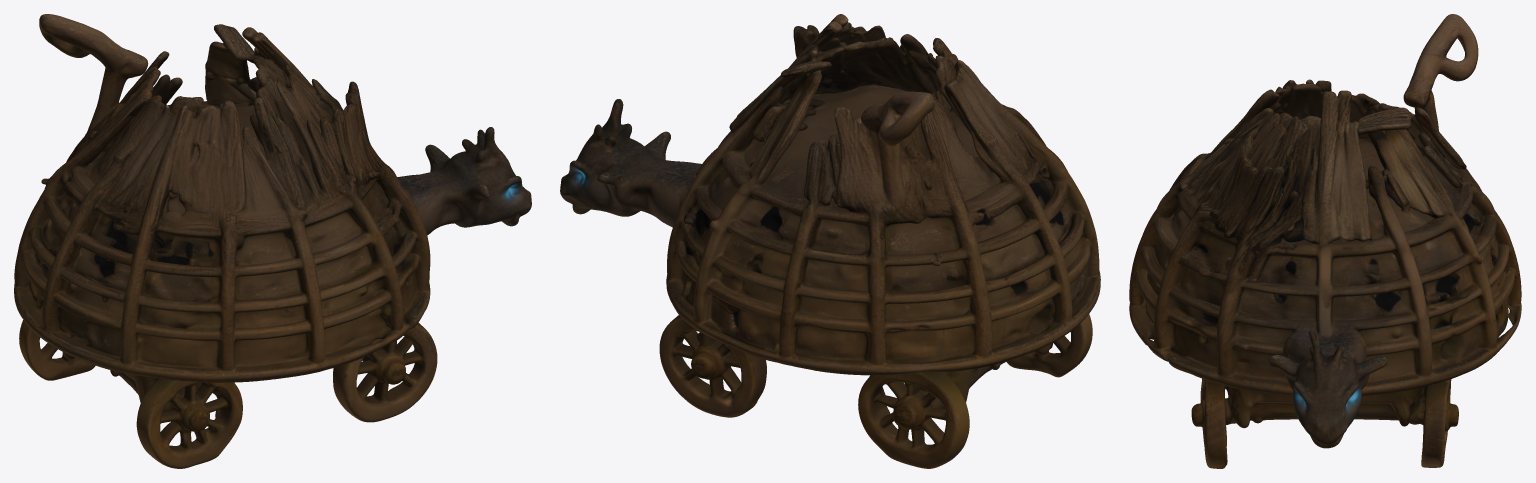
3 renders of one model, left to right at view 1: azimuth 30°, elevation 25°; view 2: azimuth 150°, elevation 25°; view 3: azimuth 270°, elevation 25°, orthographic. The views are drawn at different scales.
Parts seen in each view (by area): view 1: tripo_node_db4e28a4-b42b-4a91-9165-70e74407b7ea; view 2: tripo_node_db4e28a4-b42b-4a91-9165-70e74407b7ea; view 3: tripo_node_db4e28a4-b42b-4a91-9165-70e74407b7ea.
Boxes of the visible parts, <box> form: tripo_node_db4e28a4-b42b-4a91-9165-70e74407b7ea: <box>14,14,531,468</box>; tripo_node_db4e28a4-b42b-4a91-9165-70e74407b7ea: <box>560,14,1100,468</box>; tripo_node_db4e28a4-b42b-4a91-9165-70e74407b7ea: <box>1129,14,1521,468</box>.
Size of the model in its own units: 1 by 0.7139 by 0.7271.
1 material, 1 textured.
